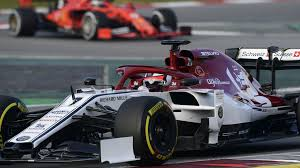FormulaOneCar: (1, 34, 300, 167)
